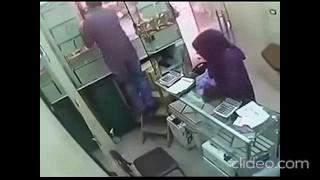shoplifting: (172, 23, 265, 139)
